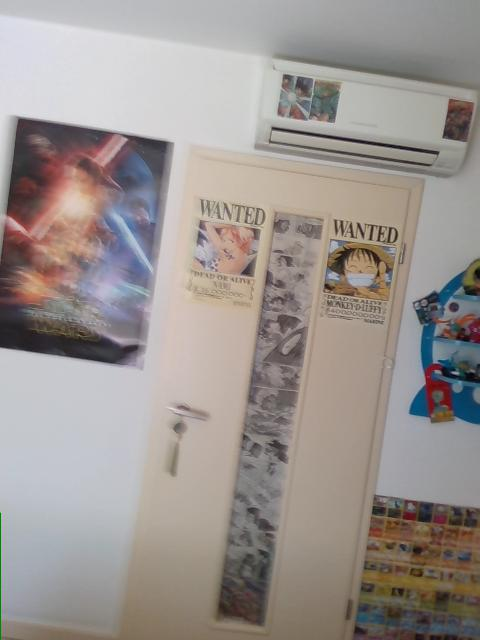closed_door: (113, 139, 425, 638)
